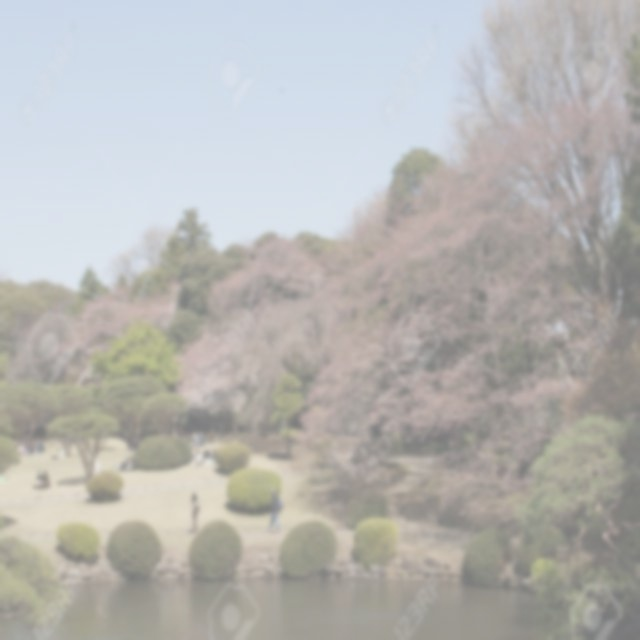pessoa: (266, 484, 283, 534), (11, 439, 48, 457), (178, 426, 206, 446), (190, 491, 198, 534), (128, 435, 145, 453), (32, 470, 44, 490), (37, 470, 49, 490), (92, 454, 101, 476), (207, 447, 220, 462), (119, 456, 131, 471), (196, 450, 206, 466), (193, 444, 201, 462), (218, 421, 224, 441), (130, 456, 137, 471), (56, 446, 64, 459), (202, 448, 210, 459), (172, 423, 176, 440)
